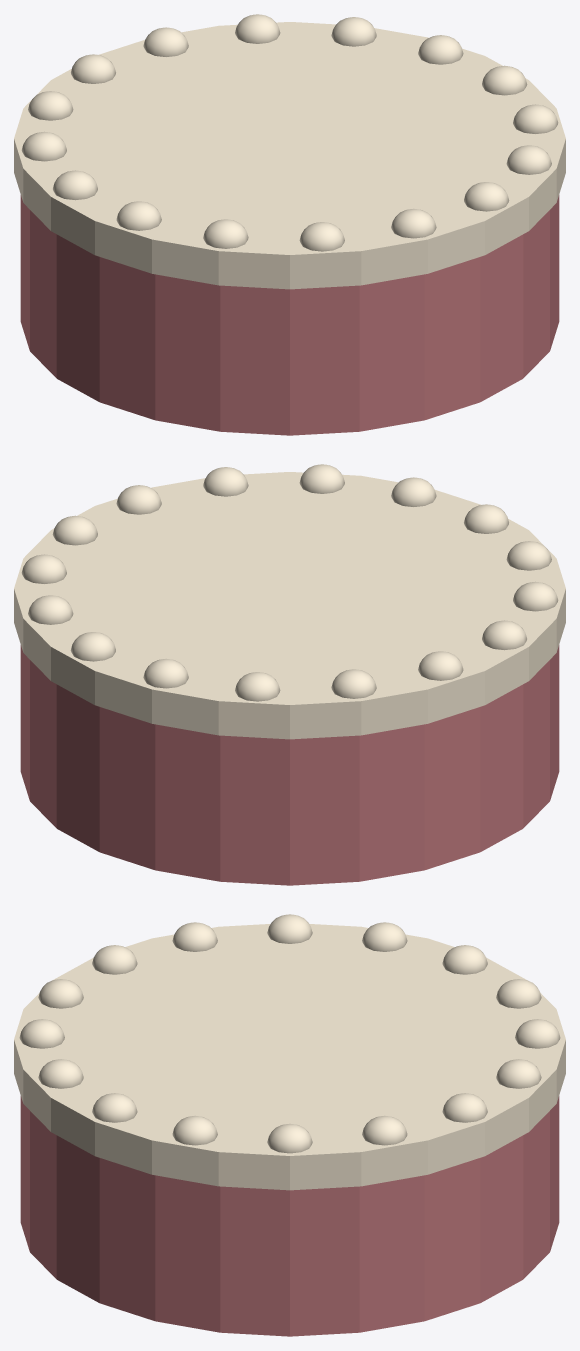
Rendered from cake_base.glb.
The picture shows the model from 3 angles, top to bottom: view 1: azimuth 30°, elevation 25°; view 2: azimuth 150°, elevation 25°; view 3: azimuth 270°, elevation 25°; orthographic projection.
Parts seen in each view (by area): view 1: cake_base; view 2: cake_base; view 3: cake_base.
Boxes of the visible parts, x1,y1,x2,y2 form: cake_base: [14, 14, 565, 435]; cake_base: [14, 464, 565, 885]; cake_base: [14, 914, 565, 1336].
Bounding box in the file's own units: 0.656 × 0.264 × 0.656.
